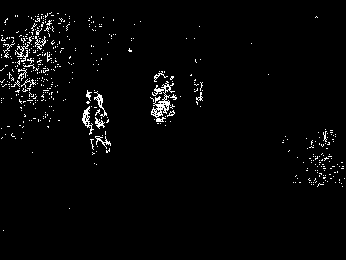person: (78, 90, 113, 157)
